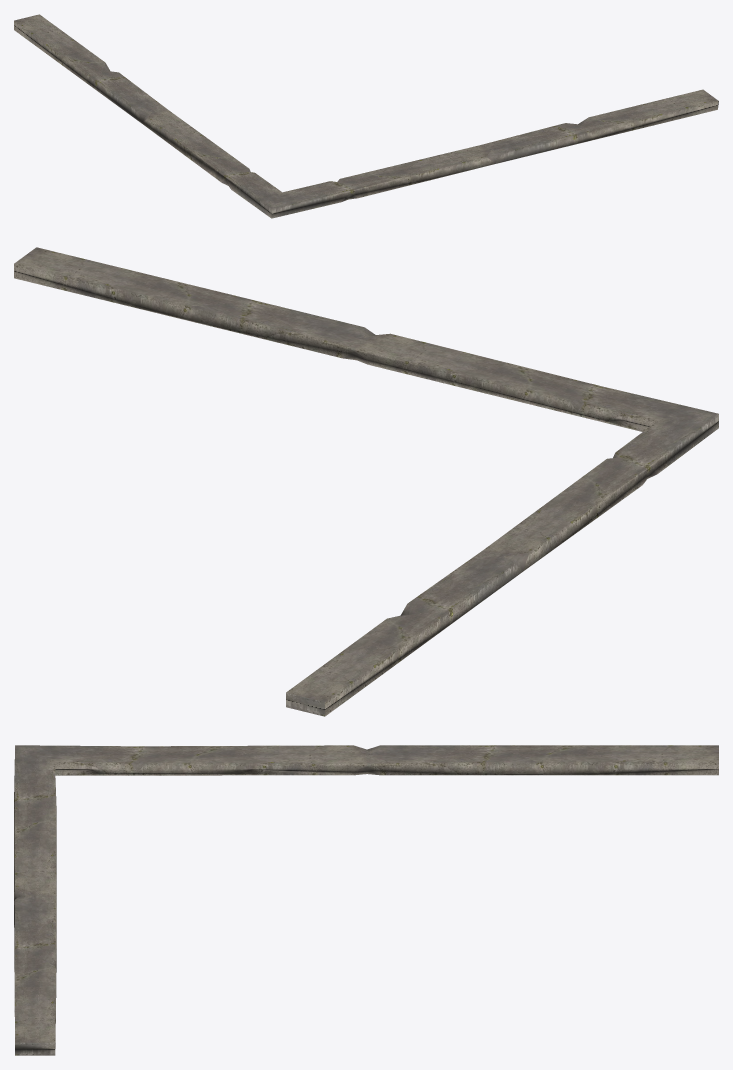
Rendered from kerb_125x600_corner.glb.
3 renders of one model, top to bottom at view 1: azimuth 30°, elevation 25°; view 2: azimuth 150°, elevation 25°; view 3: azimuth 270°, elevation 25°, orthographic. The views are drawn at different scales.
Visible parts, largest first — view 1: kerb_125x600_corner; view 2: kerb_125x600_corner; view 3: kerb_125x600_corner.
Part boxes in pixels (x1,y1,x2,y2): kerb_125x600_corner: [14, 14, 718, 218]; kerb_125x600_corner: [14, 247, 718, 716]; kerb_125x600_corner: [14, 745, 718, 1055].
Bounding box in the file's own units: 6.25 × 0.1373 × 6.24.
Materials: 1 (1 with a texture image).
